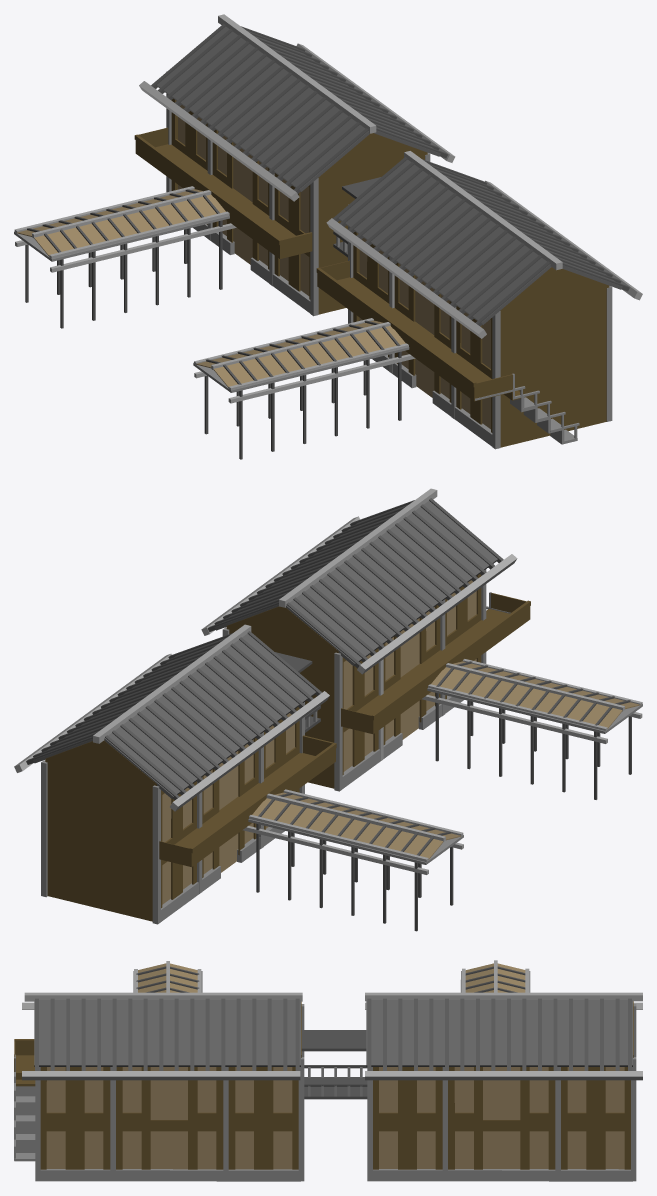
The model's file is HACIENDAWITHOUT-A-FLOOR.fbx.
3 renders of one model, top to bottom at view 1: azimuth 30°, elevation 25°; view 2: azimuth 150°, elevation 25°; view 3: azimuth 270°, elevation 25°, orthographic. The views are drawn at different scales.
Parts seen in each view (by area): view 1: polySurface166, polySurface82, polySurface132, polySurface134, polySurface86, polySurface167, polySurface3, polySurface107, pCube25, pCube62, polySurface173, pCube91 (+19 smaller); view 2: pCube24, polySurface132, polySurface82, polySurface134, polySurface86, polySurface167, polySurface3, polySurface107, polySurface178, polySurface173, pCube62, pCube93 (+19 smaller); view 3: polySurface151, polySurface101, polySurface168, polySurface3, polySurface164, pCube61, polySurface107, polySurface134, polySurface86, polySurface163, pCube26, pCube21 (+18 smaller).
Boxes of the visible parts, x1,y1,x2,y2 form: polySurface166: (500,267,609,447); polySurface82: (157,26,369,191); polySurface132: (338,159,551,324); polySurface134: (333,157,629,326); polySurface86: (151,23,447,193); polySurface167: (316,231,520,432); polySurface3: (134,98,312,299); polySurface107: (139,14,642,338); pCube25: (318,133,427,314); pCube62: (178,105,309,295); polySurface173: (359,238,490,429); pCube91: (213,326,405,387); pCube24: (45,740,156,921); polySurface132: (286,501,497,665); polySurface82: (104,633,316,798); polySurface134: (207,498,503,668); polySurface86: (26,631,321,799); polySurface167: (341,574,530,774); polySurface3: (159,707,336,907); polySurface107: (14,488,517,811); polySurface178: (226,606,338,788); polySurface173: (343,580,476,771); pCube62: (162,713,294,904); pCube93: (431,667,622,728); polySurface151: (34,1000,300,1066); polySurface101: (366,1000,632,1066); polySurface168: (40,1067,298,1169); polySurface3: (373,1067,630,1169); polySurface164: (46,1067,292,1169); pCube61: (379,1067,624,1169); polySurface107: (22,992,642,1080); polySurface134: (35,998,299,1070); polySurface86: (367,998,631,1070); polySurface163: (40,1169,300,1181); pCube26: (373,1169,632,1181); pCube21: (367,1057,636,1181).
Size of the model in its own units: 22.1 by 10.71 by 37.55.
